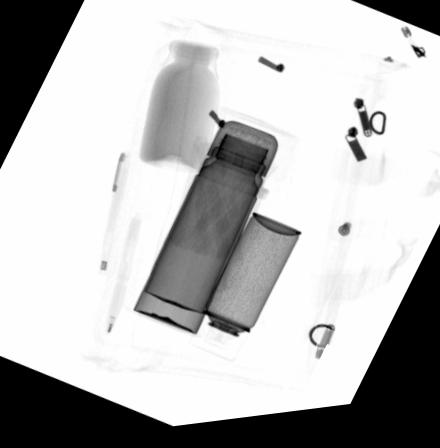Sprayer: (186, 217, 304, 369)
